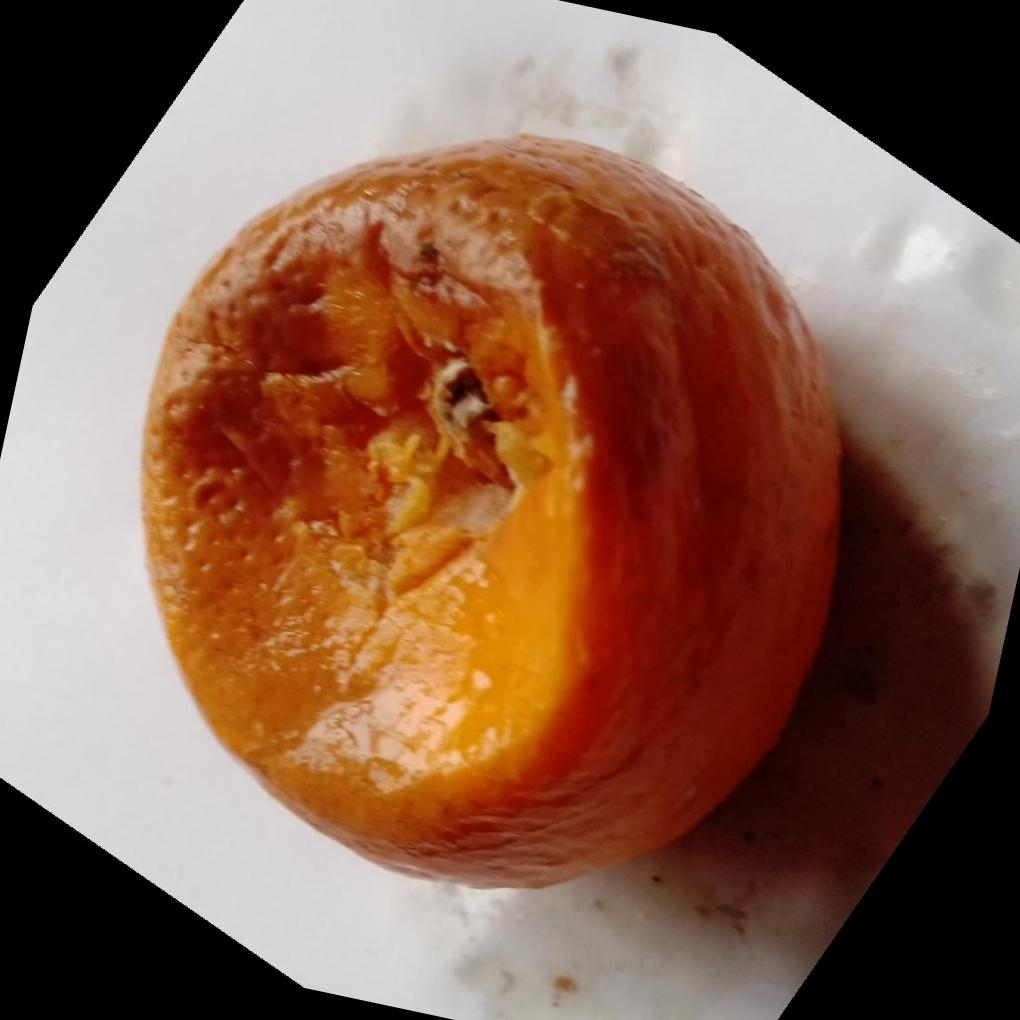FreshOrange: (140, 132, 847, 893)
